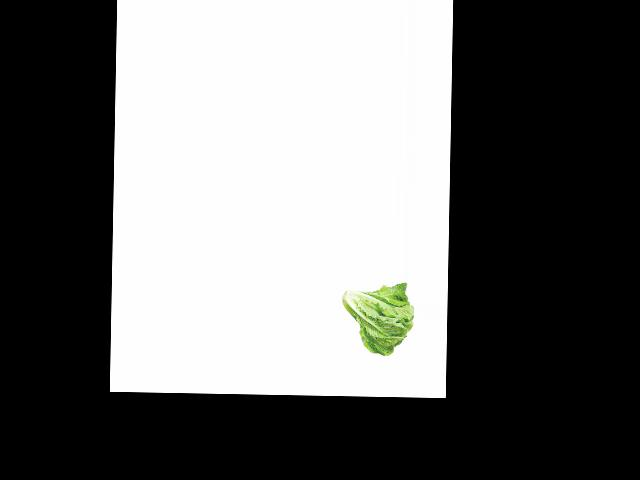lettuce: (337, 282, 415, 357)
